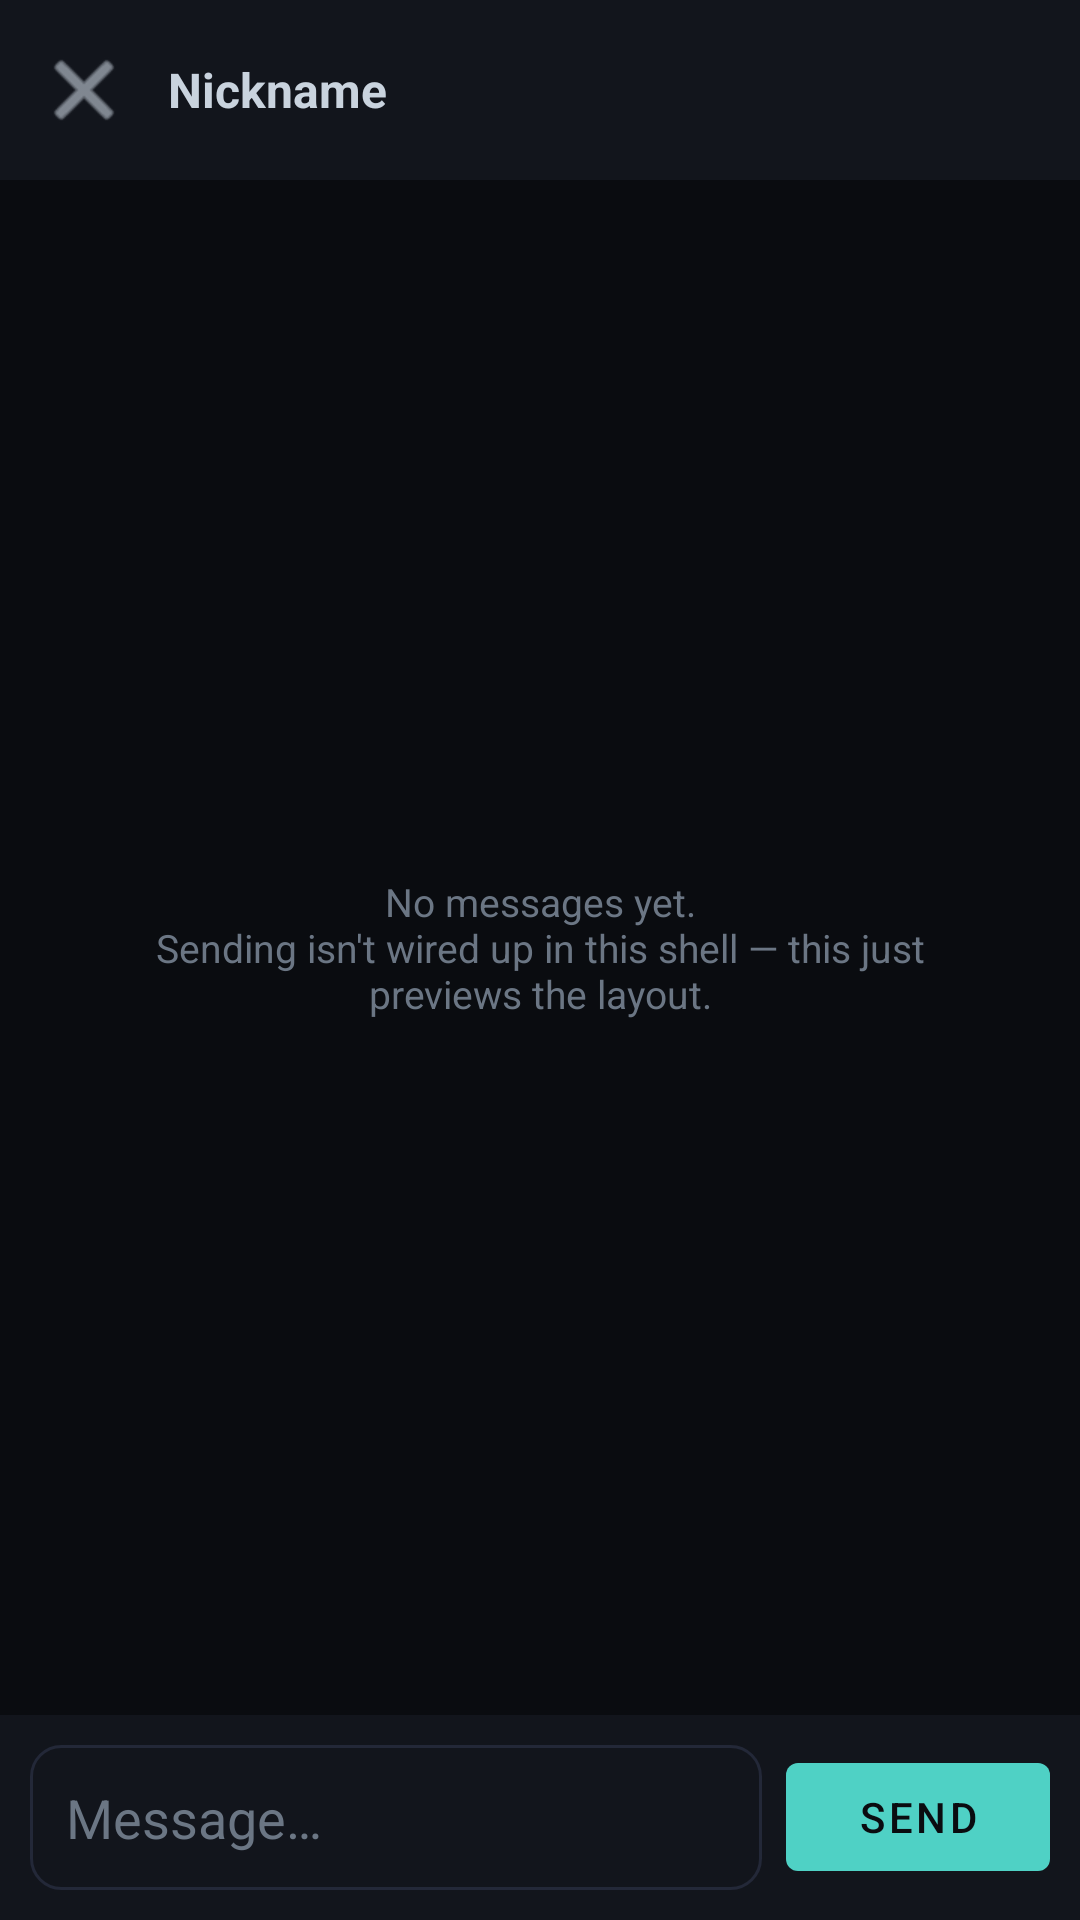

Screen size 1080px x 1920px. Icon name, then its center in pixels as (x=x, y=y):
close clear cancel: (x=84, y=90)
